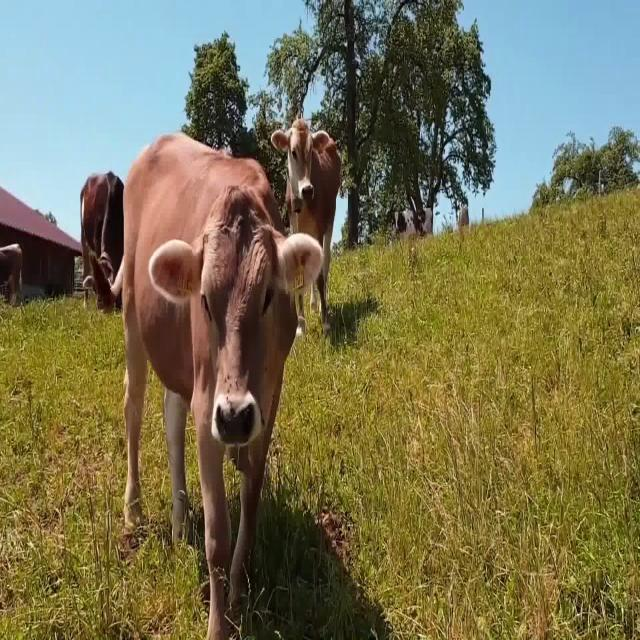cow: (125, 134, 321, 639), (271, 119, 341, 333)
